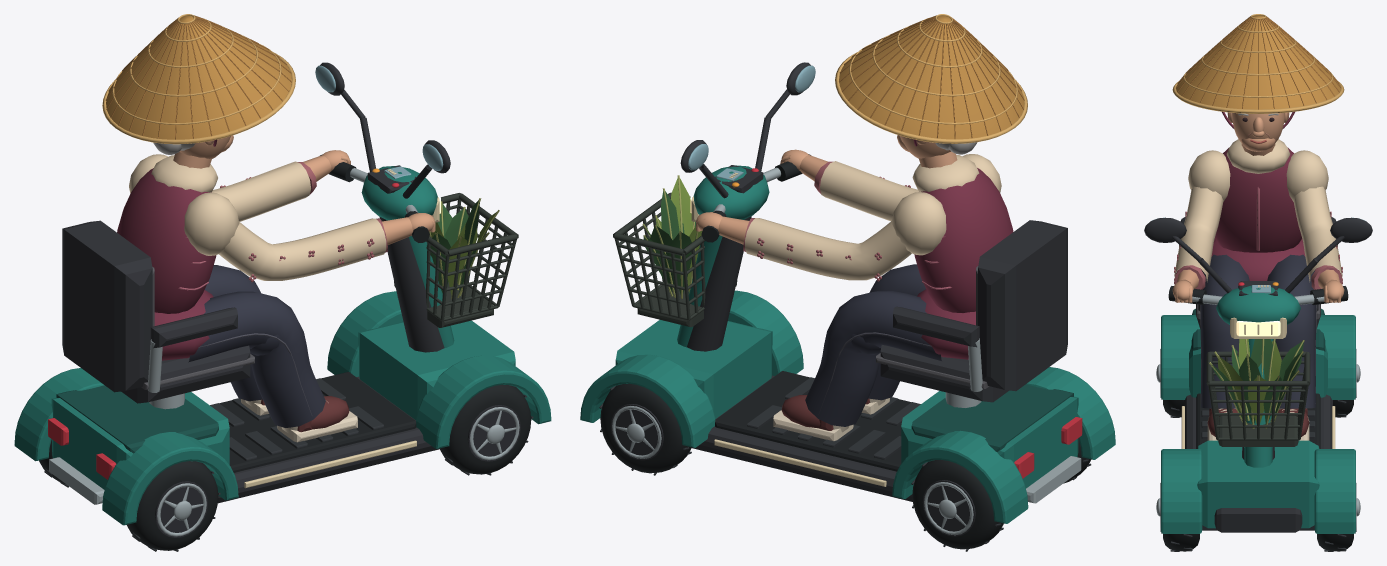
File: grandma_scooter.glb
3 views of the same model, side by side, from view 1: azimuth 30°, elevation 25°; view 2: azimuth 150°, elevation 25°; view 3: azimuth 270°, elevation 25° (orthographic). The views are drawn at different scales.
Parts seen in each view (by area): view 1: Glazed jade bodywork (×3), Textured charcoal vinyl (×4), Bamboo strips, Oatmeal cotton, Tire and pedal rubber (×2), Slate slacks, Mulberry quilted vest, Powder coated basket, Dark jade accent, Satin aluminum (×3), Bamboo warp, Warm skin (×2) (+10 smaller); view 2: Glazed jade bodywork (×3), Textured charcoal vinyl (×4), Bamboo strips, Oatmeal cotton, Tire and pedal rubber (×2), Slate slacks, Mulberry quilted vest, Powder coated basket, Dark jade accent, Satin aluminum (×3), Bamboo warp, Warm skin (×2) (+11 smaller); view 3: Glazed jade bodywork (×3), Oatmeal cotton, Bamboo strips, Mulberry quilted vest, Textured charcoal vinyl (×2), Slate slacks, Powder coated basket, Warm skin (×2), Tire and pedal rubber (×3), Bamboo warp, Deep green leaves, Honey bamboo binding (+9 smaller).
Boxes of the visible parts, x1=… form: Glazed jade bodywork (×3): x1=14, y1=166, x2=551, y2=525; Textured charcoal vinyl (×4): x1=62, y1=62, x2=520, y2=537; Bamboo strips: x1=106, y1=15, x2=291, y2=139; Oatmeal cotton: x1=129, y1=154, x2=386, y2=280; Tire and pedal rubber (×2): x1=39, y1=372, x2=531, y2=550; Slate slacks: x1=188, y1=265, x2=325, y2=427; Mulberry quilted vest: x1=117, y1=168, x2=216, y2=360; Powder coated basket: x1=394, y1=193, x2=518, y2=327; Dark jade accent: x1=56, y1=385, x2=218, y2=453; Satin aluminum (×3): x1=49, y1=339, x2=519, y2=536; Bamboo warp: x1=105, y1=15, x2=291, y2=139; Warm skin (×2): x1=173, y1=135, x2=435, y2=244; Glazed jade bodywork (×3): x1=580, y1=165, x2=1115, y2=523; Textured charcoal vinyl (×4): x1=610, y1=62, x2=1067, y2=536; Bamboo strips: x1=839, y1=15, x2=1024, y2=139; Oatmeal cotton: x1=745, y1=154, x2=1001, y2=280; Tire and pedal rubber (×2): x1=600, y1=371, x2=1091, y2=549; Slate slacks: x1=805, y1=264, x2=941, y2=426; Mulberry quilted vest: x1=914, y1=168, x2=1013, y2=359; Powder coated basket: x1=613, y1=192, x2=737, y2=327; Dark jade accent: x1=911, y1=384, x2=1073, y2=451; Satin aluminum (×3): x1=612, y1=338, x2=1081, y2=535; Bamboo warp: x1=839, y1=15, x2=1024, y2=139; Warm skin (×2): x1=696, y1=135, x2=957, y2=244; Glazed jade bodywork (×3): x1=1161, y1=285, x2=1355, y2=533; Oatmeal cotton: x1=1174, y1=139, x2=1342, y2=282; Bamboo strips: x1=1176, y1=15, x2=1340, y2=109; Mulberry quilted vest: x1=1200, y1=147, x2=1316, y2=280; Textured charcoal vinyl (×2): x1=1144, y1=217, x2=1372, y2=532; Slate slacks: x1=1200, y1=254, x2=1316, y2=408; Powder coated basket: x1=1206, y1=351, x2=1310, y2=446; Warm skin (×2): x1=1172, y1=112, x2=1344, y2=302; Tire and pedal rubber (×3): x1=1163, y1=286, x2=1353, y2=551; Bamboo warp: x1=1175, y1=16, x2=1341, y2=109; Deep green leaves: x1=1211, y1=339, x2=1303, y2=424; Honey bamboo binding: x1=1172, y1=14, x2=1344, y2=113.
Size of the model in its own units: 1.71 by 1.84 by 0.898.
